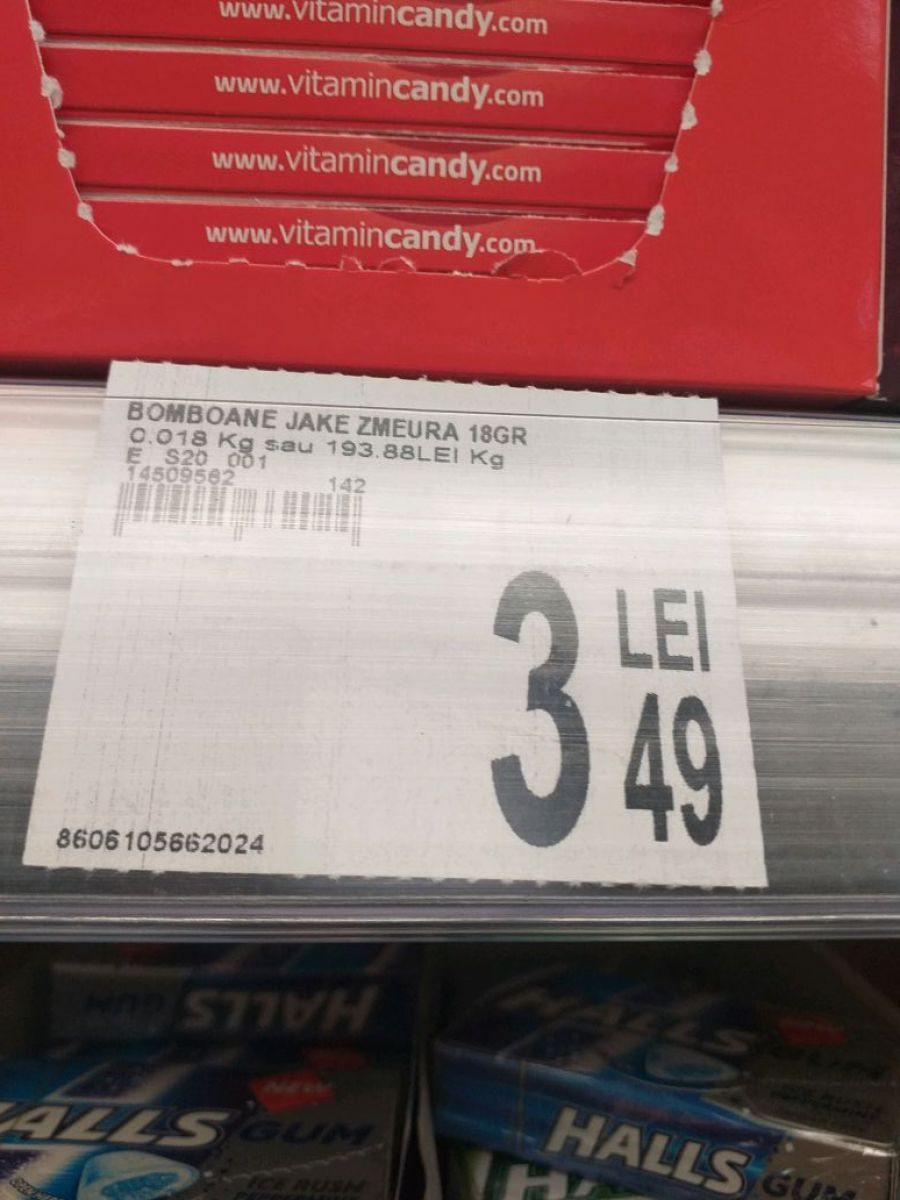bardcode: (55, 822, 272, 864)
list: (23, 358, 792, 908)
name: (123, 399, 535, 449)
price: (484, 565, 735, 869)
